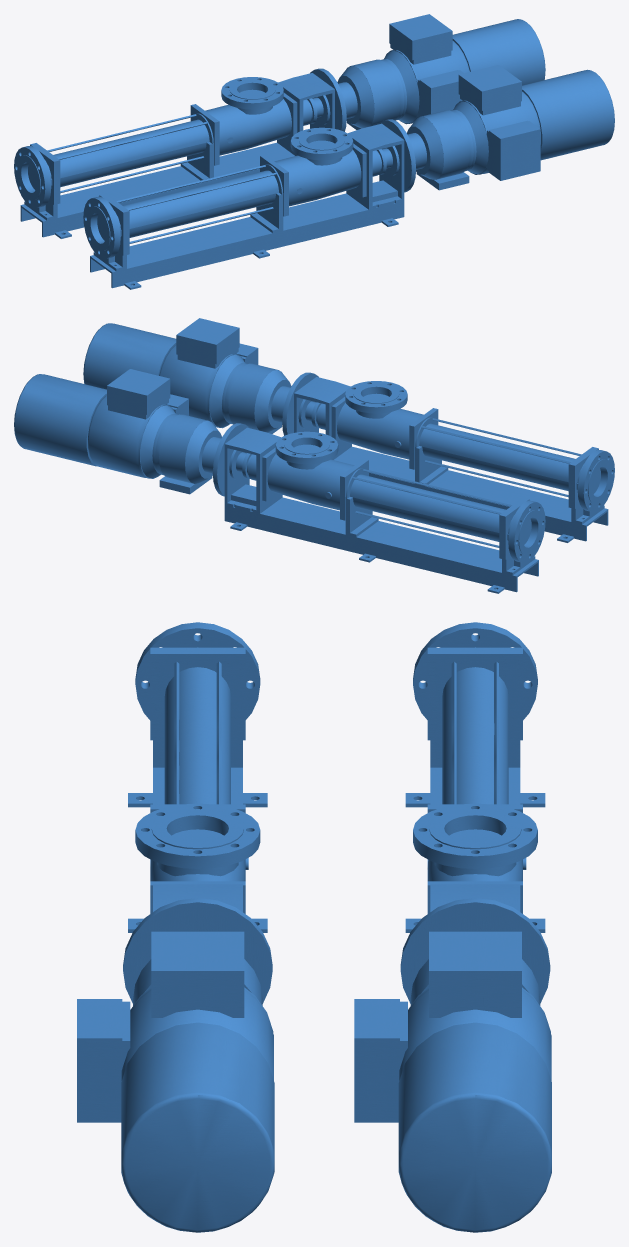
Rendered from MBR.obj.
3 renders of one model, top to bottom at view 1: azimuth 30°, elevation 25°; view 2: azimuth 150°, elevation 25°; view 3: azimuth 270°, elevation 25°, orthographic. The views are drawn at different scales.
Visible parts, largest first — view 1: _连接的实心几何图形_[4134261]_1, _旋转_[4133861]_1, _连接的实心几何图形_[4134261], _旋转_[4133861], 螺杆套_螺杆套_[4133277]_1, 螺杆套_螺杆套_[4133277], _连接的实心几何图形_[4133227], _连接的实心几何图形_[4133227]_1, _拉伸_[4134186]_1, _拉伸_[4133896], _拉伸_[4133896]_1, _连接的实心几何图形_[4133664]_1 (+32 smaller); view 2: _连接的实心几何图形_[4134261], _旋转_[4133861], _旋转_[4133861]_1, _连接的实心几何图形_[4134261]_1, 螺杆套_螺杆套_[4133277], 螺杆套_螺杆套_[4133277]_1, _连接的实心几何图形_[4133227]_1, _连接的实心几何图形_[4133227], _拉伸_[4133896]_1, _拉伸_[4133896], _连接的实心几何图形_[4133664], 螺杆套_螺杆套_[4133826] (+30 smaller); view 3: _旋转_[4133861]_1, _旋转_[4133861], _拉伸_[4133896]_1, _拉伸_[4133896], 螺杆套_螺杆套_[4133277]_1, 螺杆套_螺杆套_[4133277], 国标法兰基于面.不带法兰颈_国标法兰基于面.不带法兰颈_[4133532]_1, 国标法兰基于面.不带法兰颈_国标法兰基于面.不带法兰颈_[4133532], _拉伸_[4134186], _拉伸_[4134186]_1, 螺杆套_螺杆套_[4133813]_1, 螺杆套_螺杆套_[4133813] (+17 smaller).
Part boxes in pixels (x1,y1,x2,y2): _连接的实心几何图形_[4134261]_1: [90, 193, 404, 288]; _旋转_[4133861]_1: [454, 69, 614, 174]; _连接的实心几何图形_[4134261]: [20, 142, 294, 237]; _旋转_[4133861]: [385, 19, 545, 124]; 螺杆套_螺杆套_[4133277]_1: [123, 170, 278, 237]; 螺杆套_螺杆套_[4133277]: [53, 119, 209, 187]; _连接的实心几何图形_[4133227]: [205, 99, 291, 155]; _连接的实心几何图形_[4133227]_1: [274, 149, 361, 206]; _拉伸_[4134186]_1: [487, 120, 540, 180]; _拉伸_[4133896]: [389, 14, 452, 64]; _拉伸_[4133896]_1: [458, 65, 521, 115]; _连接的实心几何图形_[4133664]_1: [346, 123, 404, 209]; _连接的实心几何图形_[4134261]: [224, 497, 538, 592]; _旋转_[4133861]: [14, 374, 174, 478]; _旋转_[4133861]_1: [83, 323, 243, 428]; _连接的实心几何图形_[4134261]_1: [334, 446, 608, 541]; 螺杆套_螺杆套_[4133277]: [350, 474, 505, 541]; 螺杆套_螺杆套_[4133277]_1: [419, 423, 575, 491]; _连接的实心几何图形_[4133227]_1: [337, 403, 423, 459]; _连接的实心几何图形_[4133227]: [267, 453, 354, 510]; _拉伸_[4133896]_1: [176, 318, 239, 368]; _拉伸_[4133896]: [107, 369, 170, 419]; _连接的实心几何图形_[4133664]: [224, 427, 282, 513]; 螺杆套_螺杆套_[4133826]: [159, 414, 208, 483]; _旋转_[4133861]_1: [121, 987, 274, 1232]; _旋转_[4133861]: [398, 987, 551, 1232]; _拉伸_[4133896]_1: [151, 931, 244, 1017]; _拉伸_[4133896]: [429, 931, 521, 1017]; 螺杆套_螺杆套_[4133277]_1: [164, 667, 230, 804]; 螺杆套_螺杆套_[4133277]: [442, 667, 508, 804]; 国标法兰基于面.不带法兰颈_国标法兰基于面.不带法兰颈_[4133532]_1: [135, 803, 260, 868]; 国标法兰基于面.不带法兰颈_国标法兰基于面.不带法兰颈_[4133532]: [413, 803, 537, 868]; _拉伸_[4134186]: [354, 999, 407, 1122]; _拉伸_[4134186]_1: [77, 999, 130, 1122]; 螺杆套_螺杆套_[4133813]_1: [123, 898, 272, 1003]; 螺杆套_螺杆套_[4133813]: [400, 898, 550, 1003].
Size of the model in its own units: 760 by 156 by 314.
Materials: 1 (1 with a texture image).
